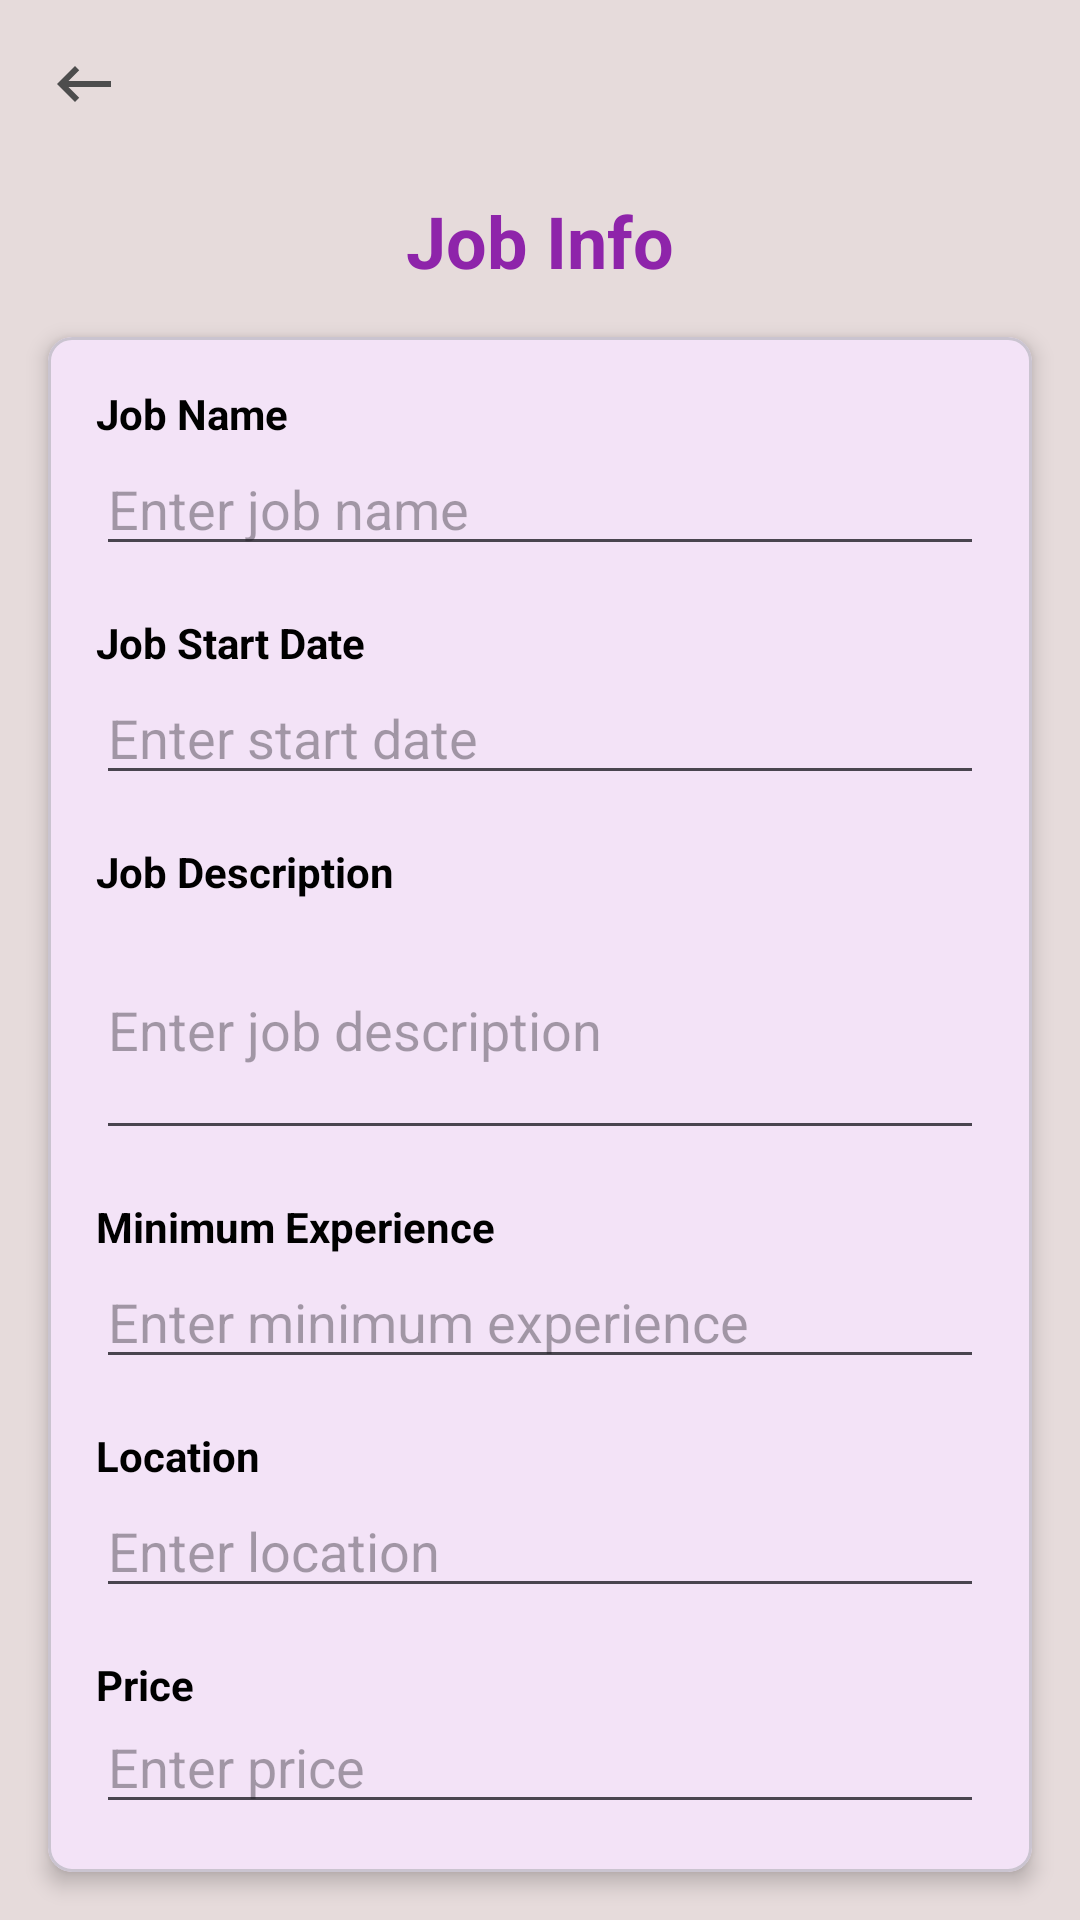

Where icons sit on this 1080 × 1920 app screen, as {"x1": x1, "y1": y1, "x2": x2, "y2": y2}:
backarrow: {"x1": 57, "y1": 66, "x2": 111, "y2": 102}
